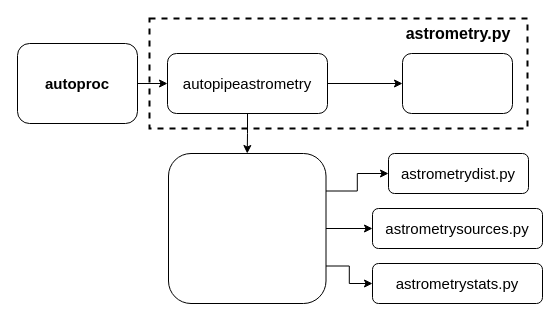
Image size: 560x321. Some labels were removed from this diagram. Here are the shapes that lost their labels. From the top down, the box of each, then its label:
(402, 52, 512, 114): astrometry
(168, 152, 326, 304): vlt_autoastrometry.py
